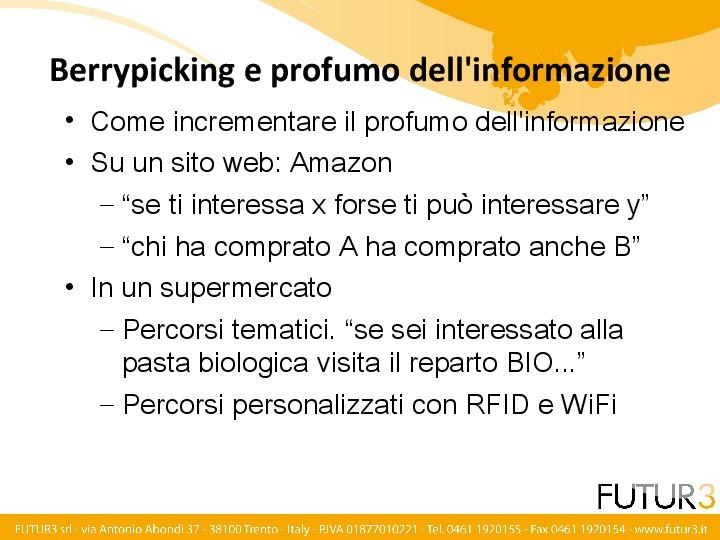paragraph: (80, 103, 702, 449)
title: (43, 43, 681, 99)
